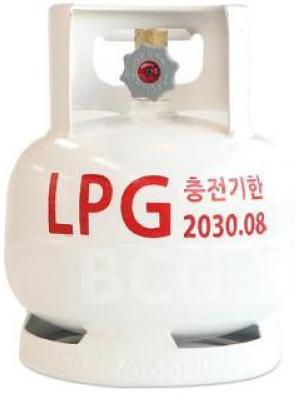cylinder: (1, 1, 295, 393)
